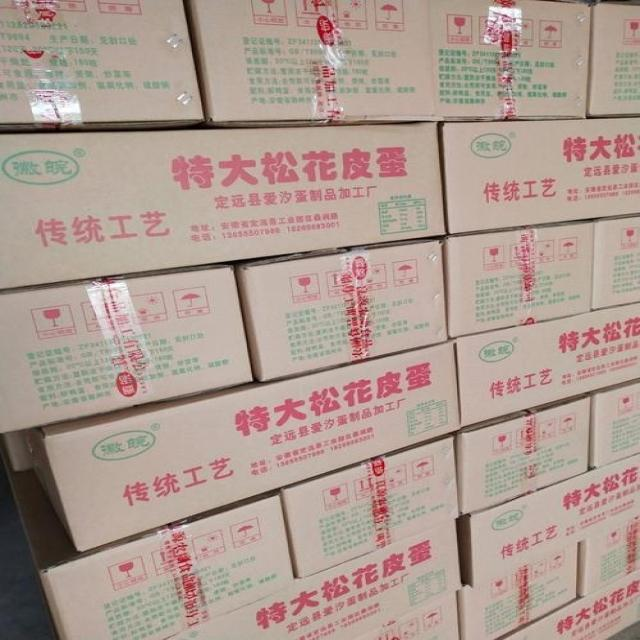box: (13, 343, 462, 552), (0, 124, 450, 292), (15, 476, 294, 639), (0, 263, 255, 432), (165, 520, 460, 638), (185, 1, 441, 128), (230, 239, 447, 383), (0, 2, 208, 132), (279, 434, 463, 580), (440, 116, 639, 234), (453, 306, 639, 430), (459, 459, 639, 584), (427, 1, 592, 120), (439, 223, 596, 339), (458, 397, 592, 517), (460, 543, 580, 639), (498, 573, 639, 639), (587, 5, 639, 117), (361, 591, 464, 639), (580, 518, 639, 599), (592, 213, 639, 312), (591, 381, 639, 470)
